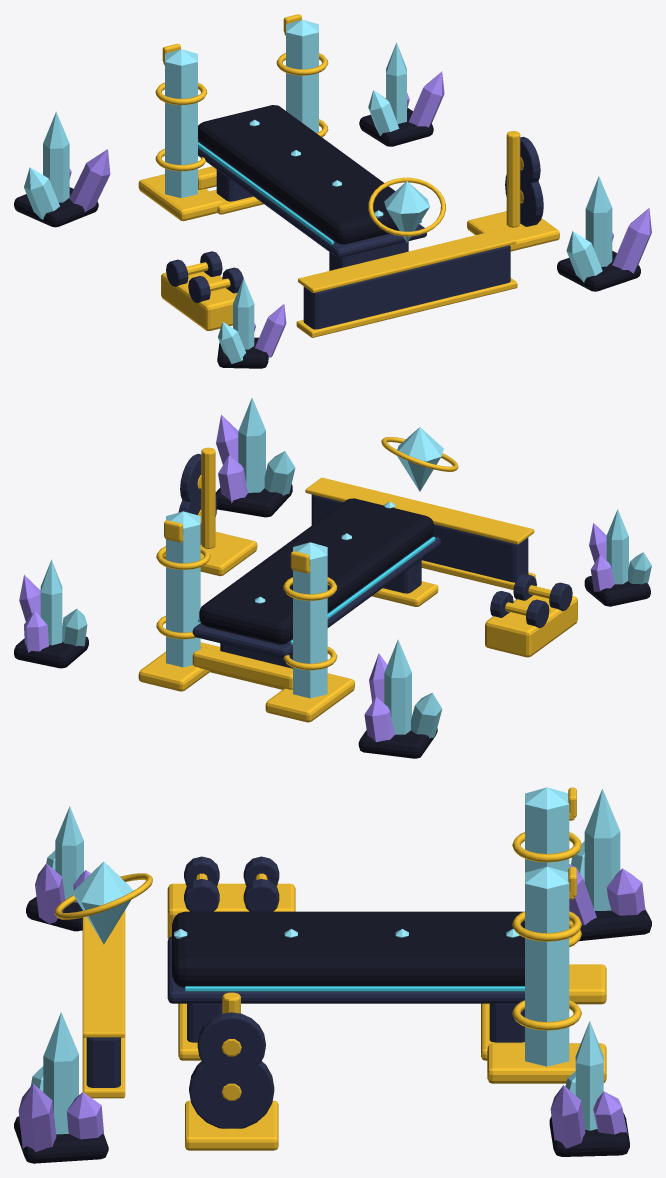
The model's file is Bench_Cristal.fbx.
3 views of the same model, one above another, from view 1: azimuth 30°, elevation 25°; view 2: azimuth 150°, elevation 25°; view 3: azimuth 270°, elevation 25° (orthographic). The views are drawn at different scales.
Parts seen in each view (by area): view 1: Crystal, Deep, Gold.001, Navy, CrystalViolet, Glow.002; view 2: Gold.001, Crystal, Deep, Navy, CrystalViolet, Glow.002; view 3: Deep, Crystal, Gold.001, Navy, CrystalViolet, Glow.002.
Boxes of the visible parts, x1,y1,x2,y2 form: Crystal: (24,19,612,363); Deep: (14,105,640,368); Gold.001: (138,14,559,337); Navy: (166,136,543,329); CrystalViolet: (69,71,651,357); Glow.002: (198,142,421,244); Gold.001: (138,437,577,722); Crystal: (40,397,651,738); Deep: (14,484,650,758); Navy: (178,453,572,668); CrystalViolet: (19,415,614,741); Glow.002: (198,537,435,644); Deep: (14,897,651,1163); Crystal: (31,787,620,1134); Gold.001: (54,787,606,1150); Navy: (86,856,524,1128); CrystalViolet: (18,863,645,1151); Glow.002: (185,986,524,991).
Bounding box in the file's own units: 15.36 × 5.31 × 14.97.
